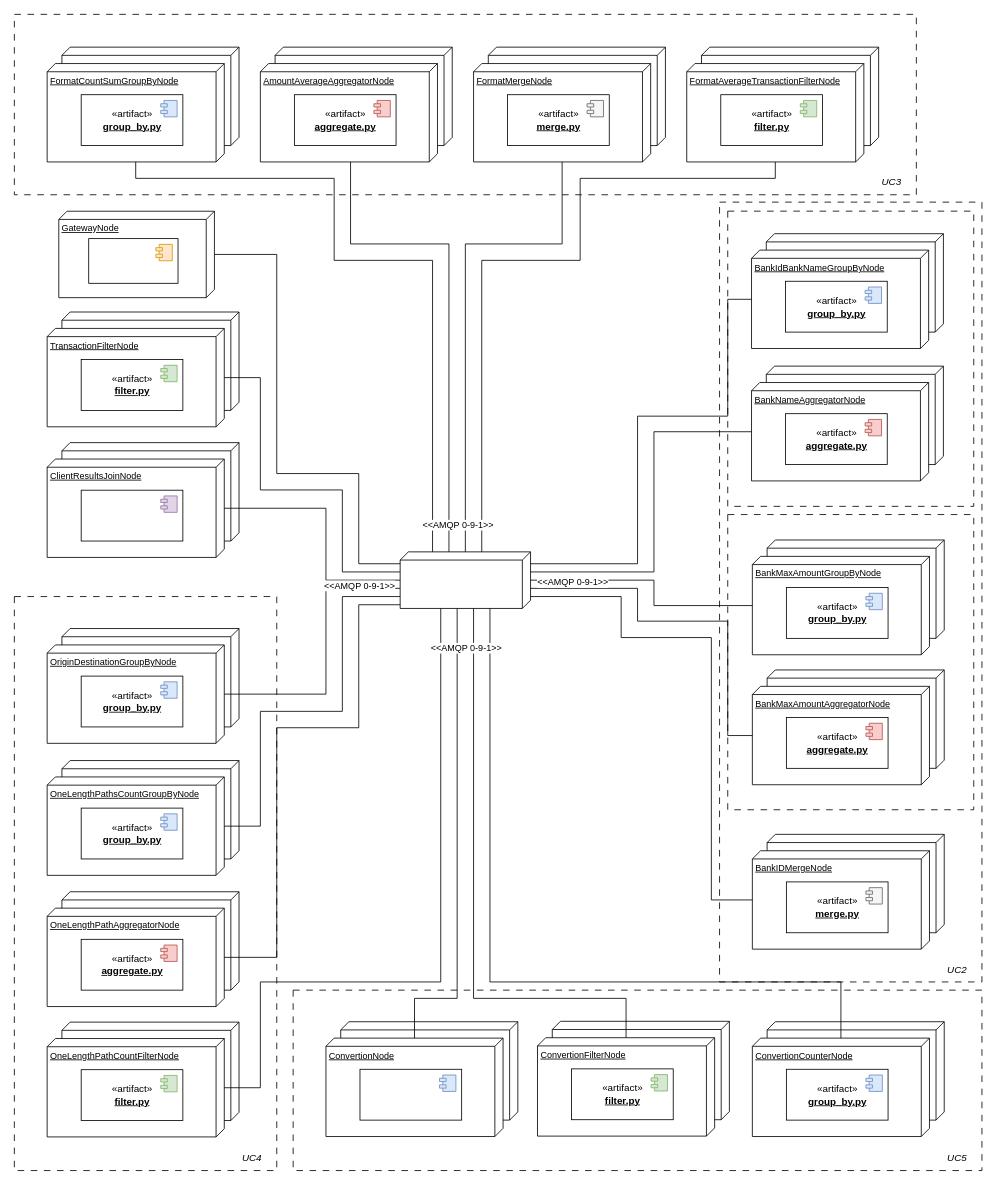
The diagram is 996 pixels wide and 1185 high, and some of its shapes have lost their labels. The shapes that lost their labels are listed below. From the top down, each one's centre as x and y in pixels, then its label:
At point 133,260: "«artifact» gateway.py".
At point 131,515: "«artifact» join.py".
At point 465,579: "RabbitMqMiddlewareNode".
At point 410,1094: "«artifact» usd_converter.py".
